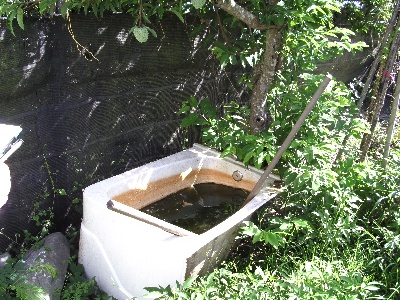tub: (77, 142, 283, 300)
